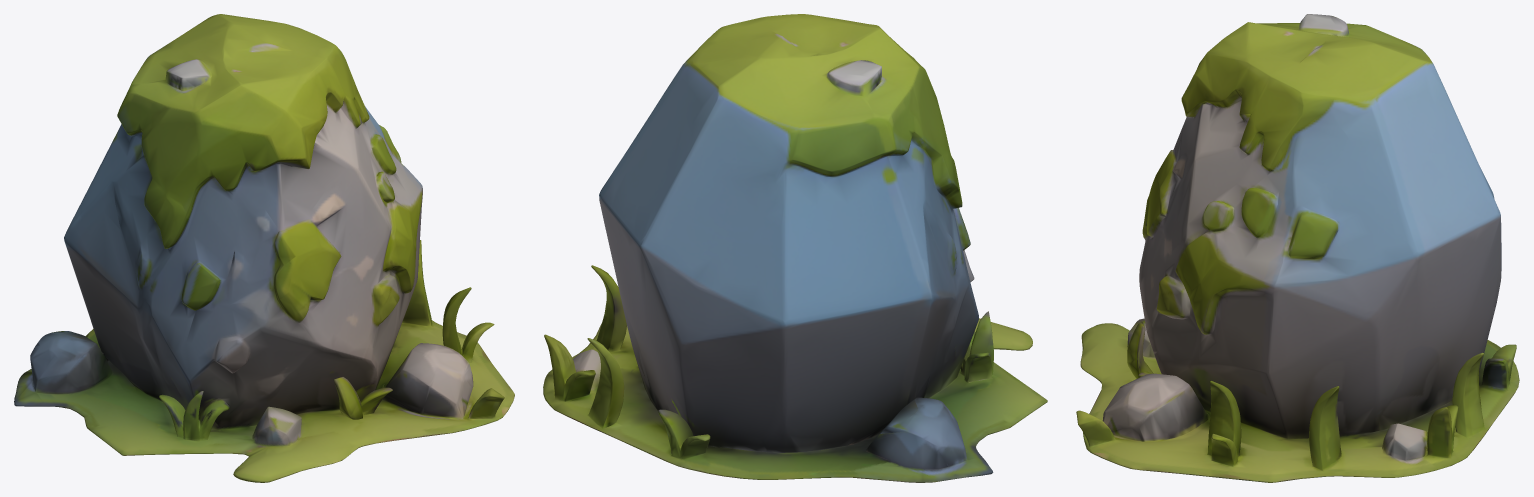
The model's file is stone.fbx.
The picture shows the model from 3 angles, left to right: view 1: azimuth 30°, elevation 25°; view 2: azimuth 150°, elevation 25°; view 3: azimuth 270°, elevation 25°; orthographic projection. The views are drawn at different scales.
Parts seen in each view (by area): view 1: stone; view 2: stone; view 3: stone.
Part boxes in pixels (bbox=[...]): stone: bbox=[14, 14, 514, 482]; stone: bbox=[543, 14, 1047, 482]; stone: bbox=[1076, 14, 1519, 482].
Bounding box in the file's own units: 40.14 × 30.99 × 36.1.
1 material, 1 textured.
